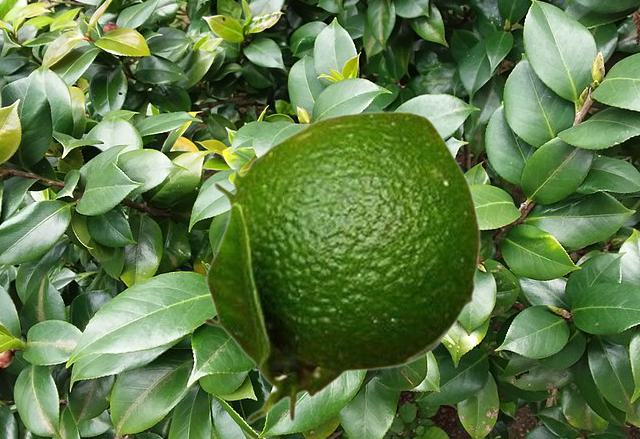dalandan: (201, 110, 480, 424)
